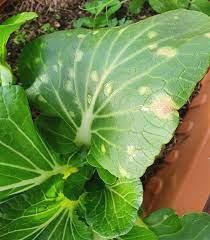Bok-Choy-Diseased: (33, 25, 182, 170)
